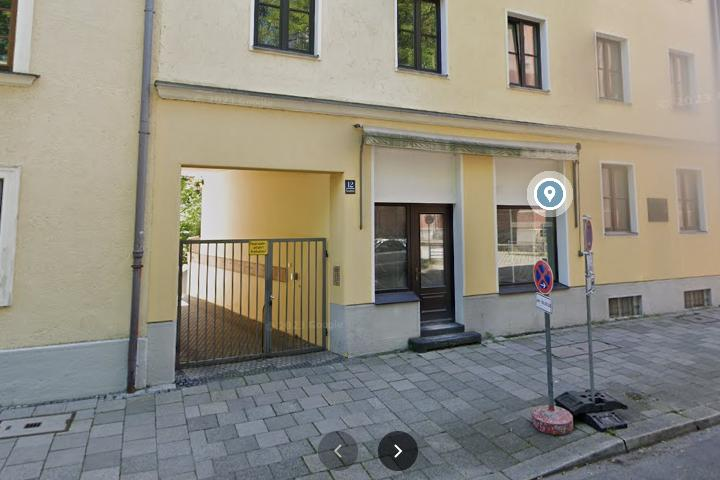google_maps: (378, 431, 419, 470), (319, 431, 357, 472), (536, 179, 566, 209)
traffic_sign: (534, 260, 554, 293)
